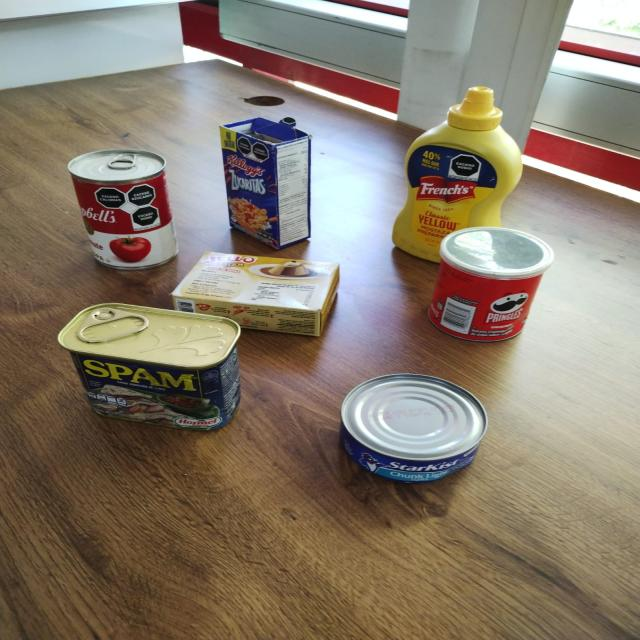can of cream: (65, 148, 178, 270)
can of tuna: (339, 374, 488, 481)
cereal: (218, 115, 313, 252)
chips: (428, 228, 550, 340)
jelly: (170, 251, 341, 333)
mustard: (393, 88, 518, 261)
spam: (56, 305, 242, 433)
